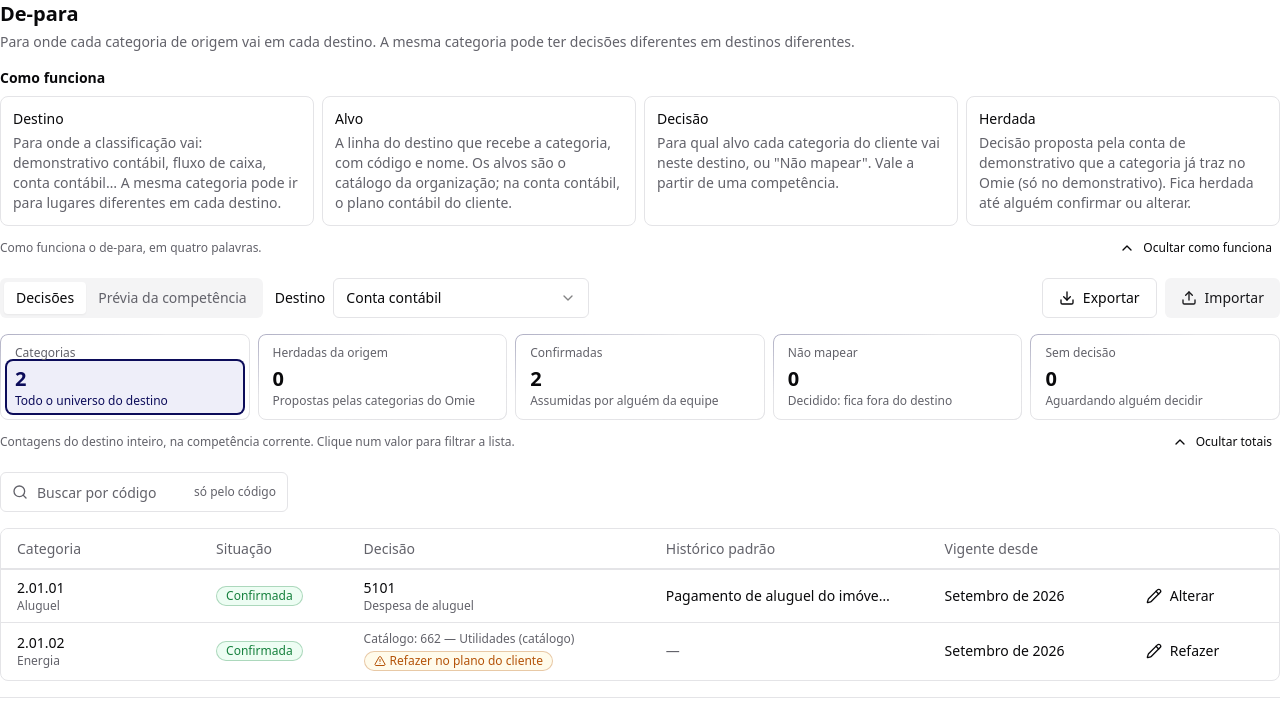
it: histórico padrão — limite do contrato › o 400 do servidor vira erro do CAMPO histórico, sem toast
The width and height of the screenshot is (1280, 710).
Click the button with aria-label "Alterar a categoria 2.01.01".
click(1180, 596)  # box [1134,578,1226,614]
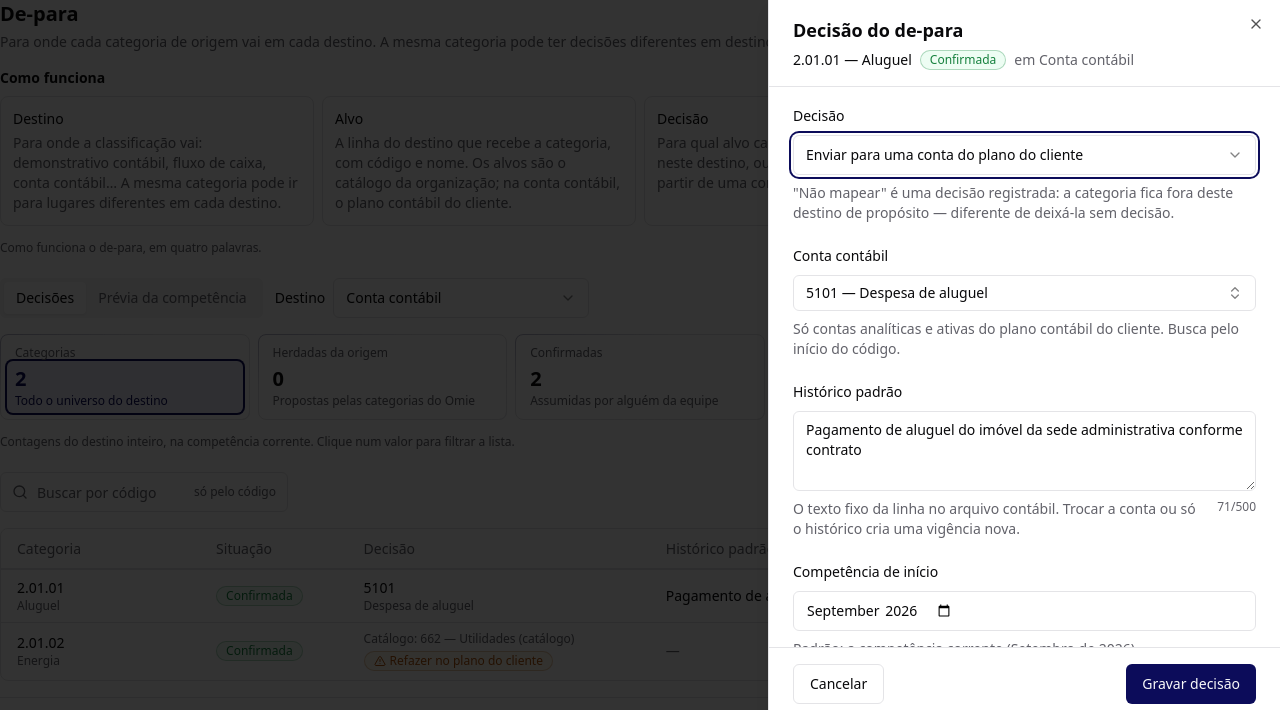
Click the button "Gravar decisão".
click(1191, 684)  # box [1126,664,1256,704]
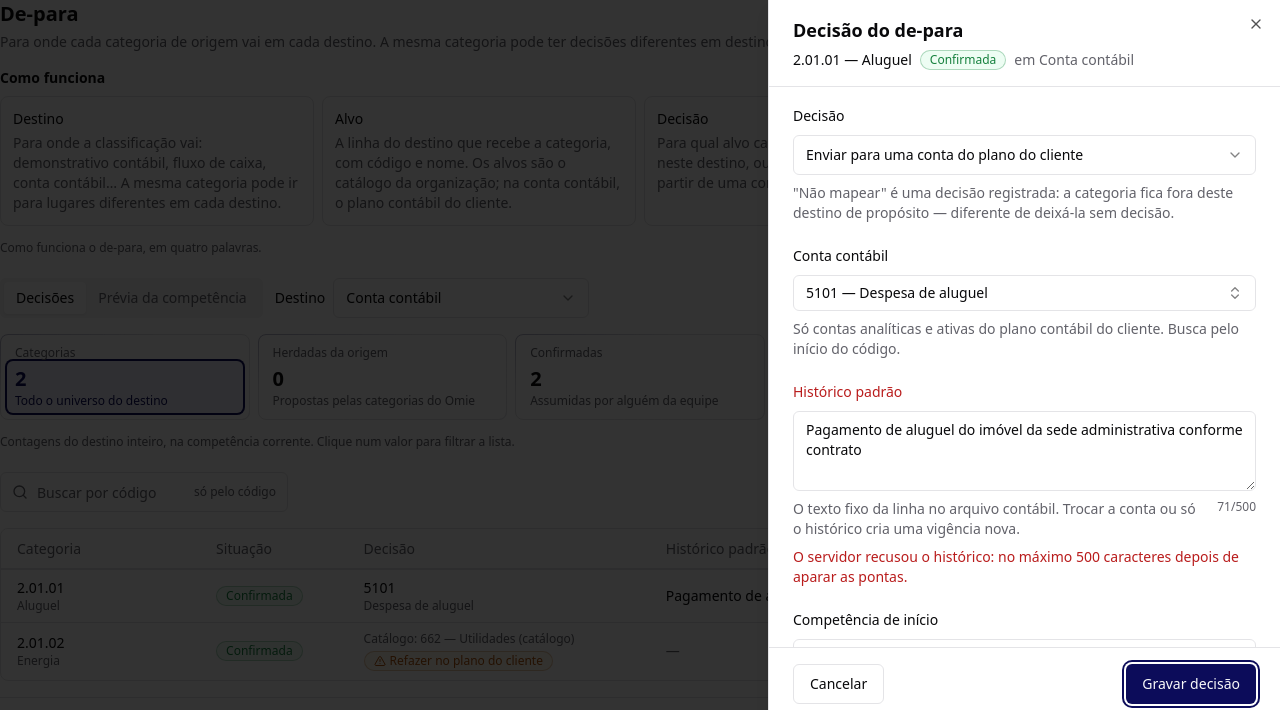
Expected: the text "O servidor recusou o histórico: no máximo 500 caracteres" is shown, [793,547,1239,586]
